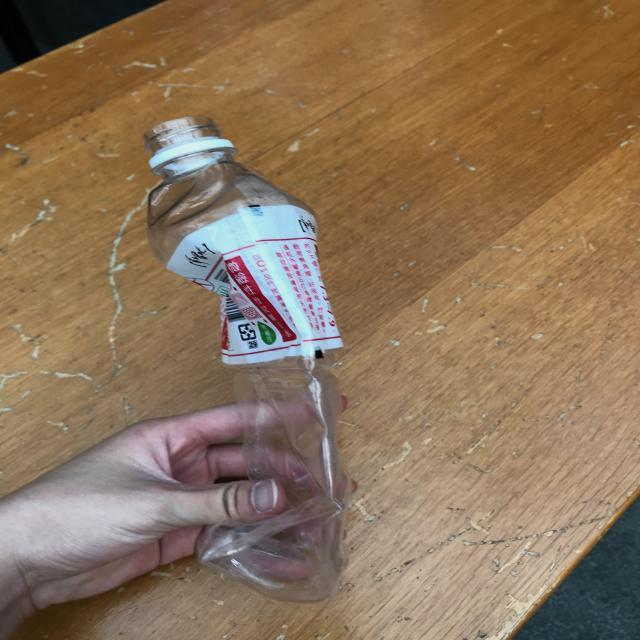plastic_bottle: (143, 117, 349, 602)
